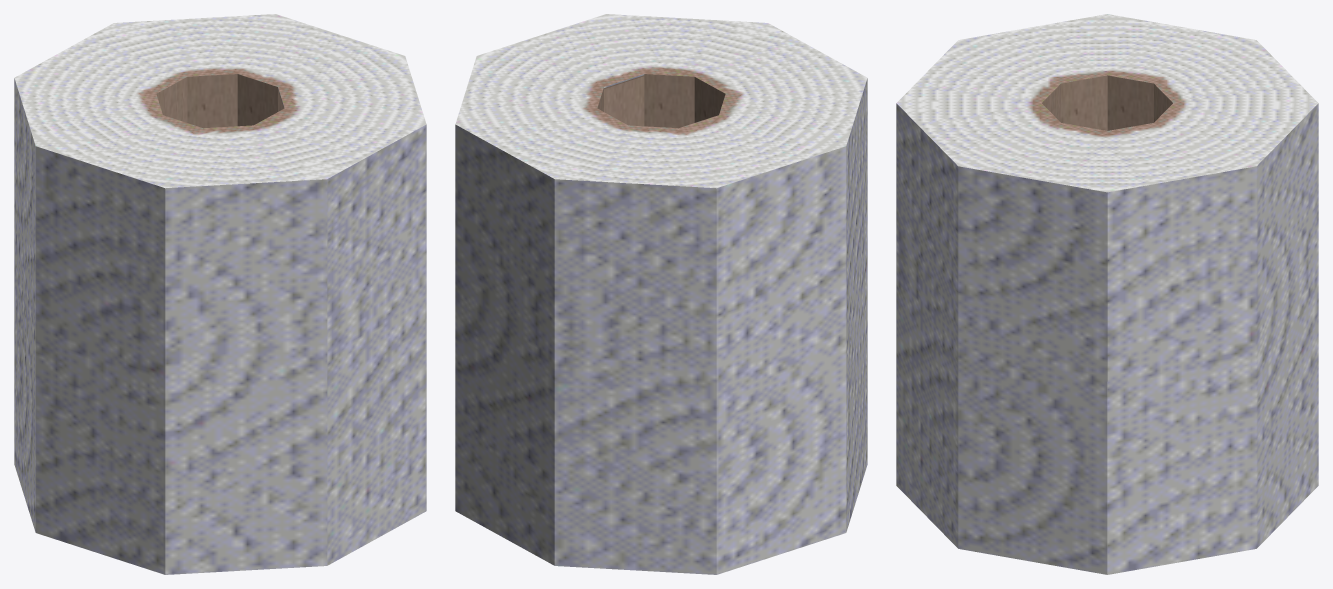
Rendered from toilet_paper.fbx.
3 views of the same model, side by side, from view 1: azimuth 30°, elevation 25°; view 2: azimuth 150°, elevation 25°; view 3: azimuth 270°, elevation 25° (orthographic).
Parts seen in each view (by area): view 1: Cylinder; view 2: Cylinder; view 3: Cylinder.
Boxes of the visible parts, <box> form: Cylinder: <box>14,14,426,574</box>; Cylinder: <box>455,14,867,574</box>; Cylinder: <box>896,14,1318,574</box>.
Bounding box in the file's own units: 3.89 × 3.89 × 3.89.
Materials: 1 (1 with a texture image).
